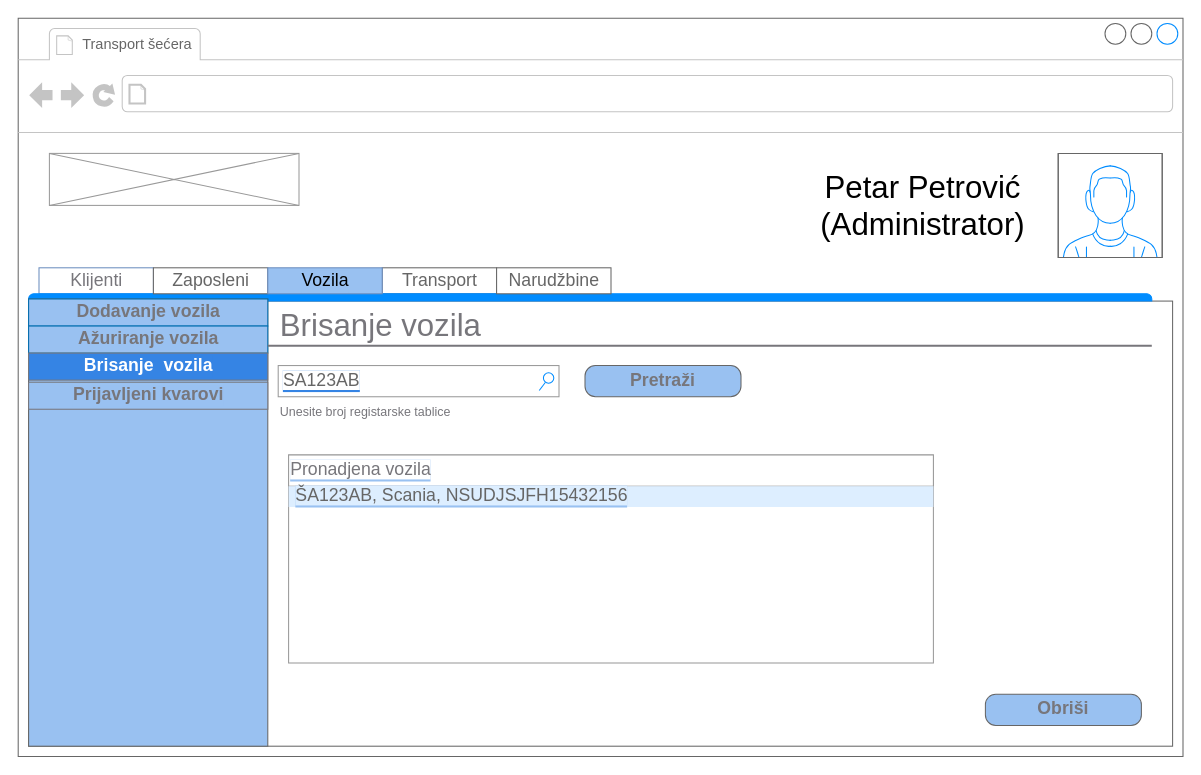
The diagram is 1201 pixels wide and 775 high, and some of its shapes have lost their labels. The shapes that lost their labels are listed below. From the top down, each one's centre as x and y in pixels, then its label:
pixel 386 94: https://www.transportsecera.com/admin/vozila
pixel 173 178: LOGO
